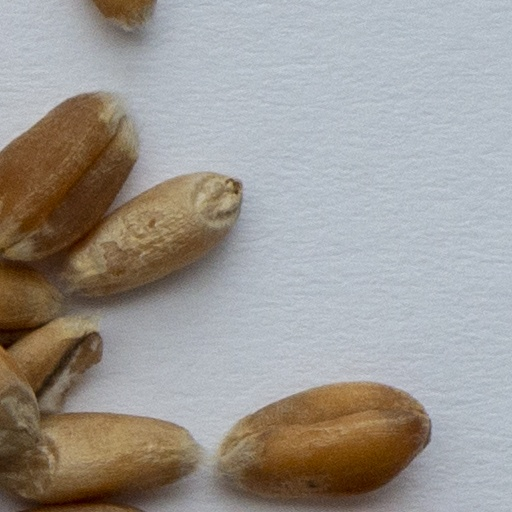Wheat-grain-damaged-poly: (0, 262, 64, 331)
